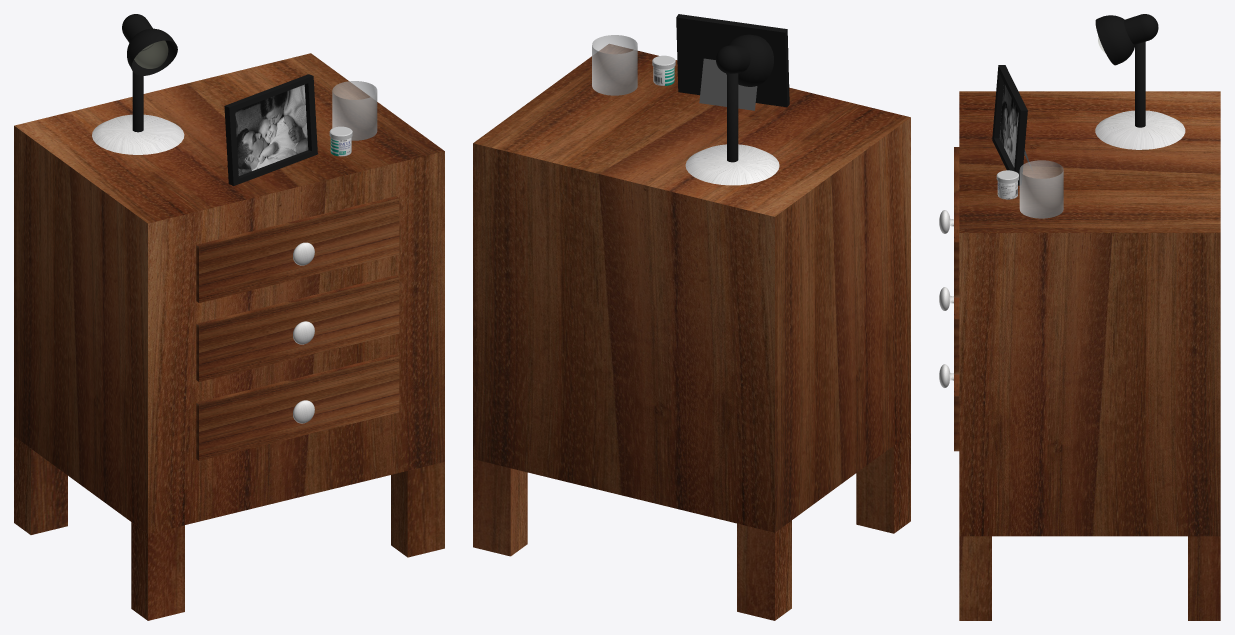
The model's file is nightstand3.fbx.
The picture shows the model from 3 angles, left to right: view 1: azimuth 30°, elevation 25°; view 2: azimuth 150°, elevation 25°; view 3: azimuth 270°, elevation 25°; orthographic projection. The views are drawn at different scales.
Parts seen in each view (by area): view 1: Nightstand, Picture Frame, Lamp.004, Cup.001, Medication; view 2: Nightstand, Picture Frame, Lamp.004, Cup.001, Medication; view 3: Nightstand, Lamp.004, Picture Frame, Cup.001, Medication.
Part boxes in pixels (left/top/right/bottom): Nightstand: left=14, top=53, right=444, bottom=620; Picture Frame: left=224, top=74, right=317, bottom=186; Lamp.004: left=92, top=14, right=184, bottom=154; Cup.001: left=332, top=81, right=377, bottom=140; Medication: left=329, top=126, right=352, bottom=156; Nightstand: left=473, top=44, right=910, bottom=620; Picture Frame: left=676, top=14, right=789, bottom=110; Lamp.004: left=685, top=34, right=779, bottom=185; Cup.001: left=592, top=35, right=637, bottom=95; Medication: left=652, top=55, right=675, bottom=85; Nightstand: left=939, top=91, right=1220, bottom=620; Lamp.004: left=1095, top=14, right=1185, bottom=149; Picture Frame: left=992, top=65, right=1031, bottom=185; Cup.001: left=1019, top=160, right=1063, bottom=218; Medication: left=996, top=170, right=1018, bottom=199.
Size of the model in its own units: 200 by 332 by 168.
